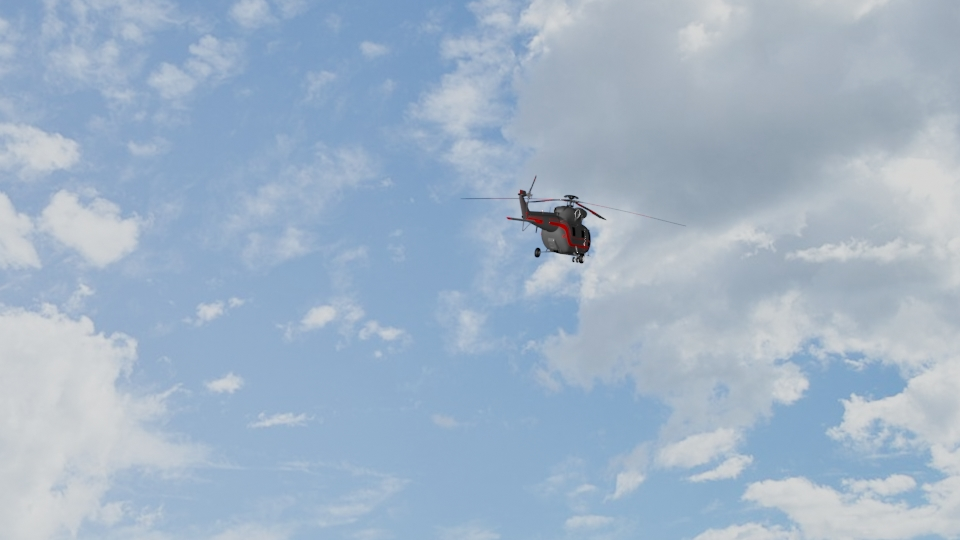heli: (504, 173, 608, 266)
